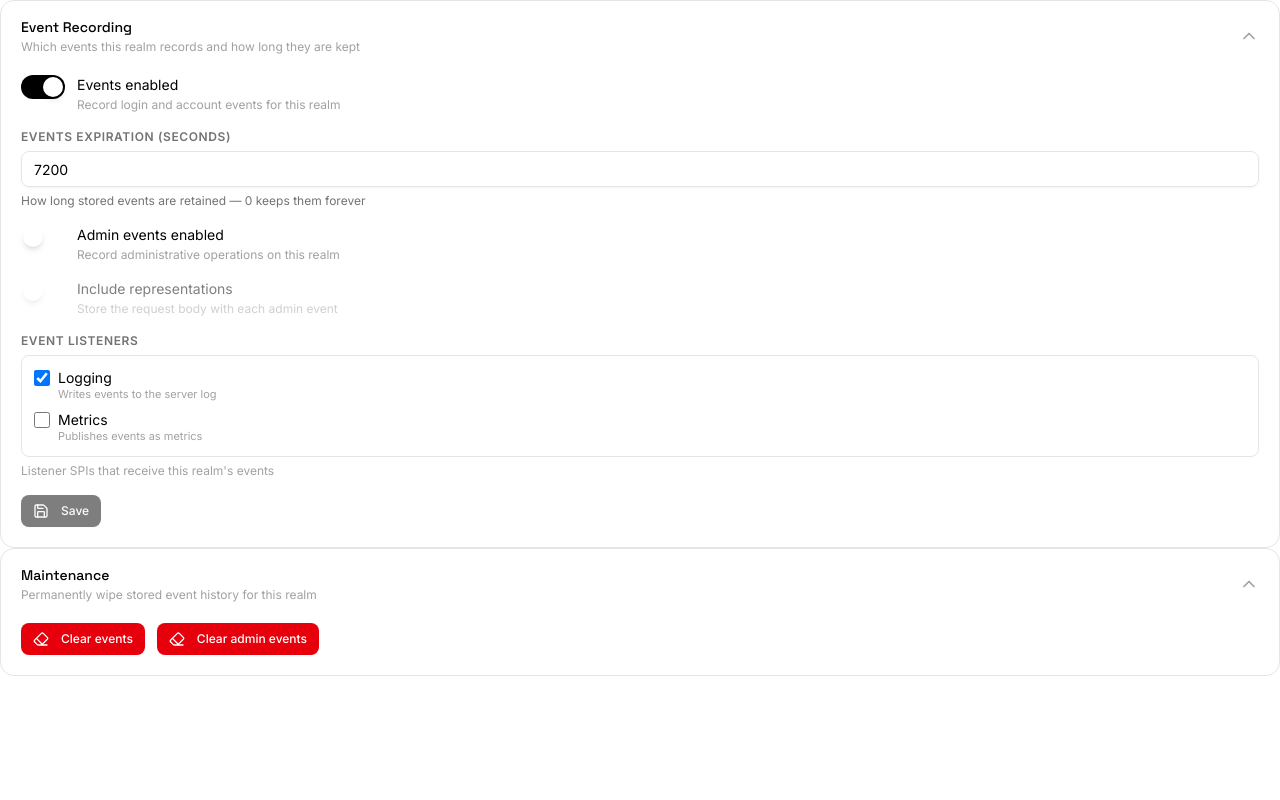
Test case: EventsConfigSection › clears events only after confirmation
The image size is (1280, 800).
Click the button "Clear events" at (83, 638), box x1=21 y1=622 x2=145 y2=654
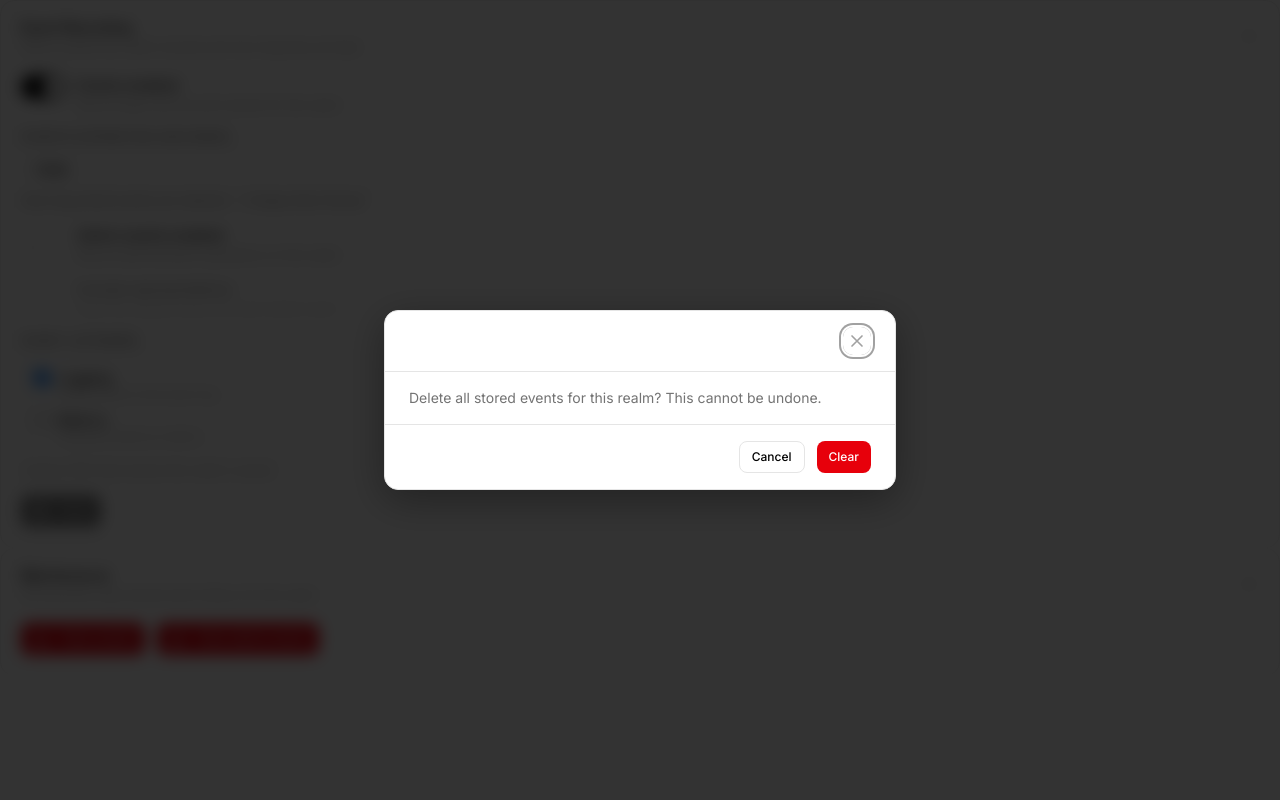
expect the text "Delete all stored events" is shown: met, box x1=409 y1=389 x2=822 y2=406
Click the button "Clear" at (844, 457), box x1=816 y1=441 x2=871 y2=473
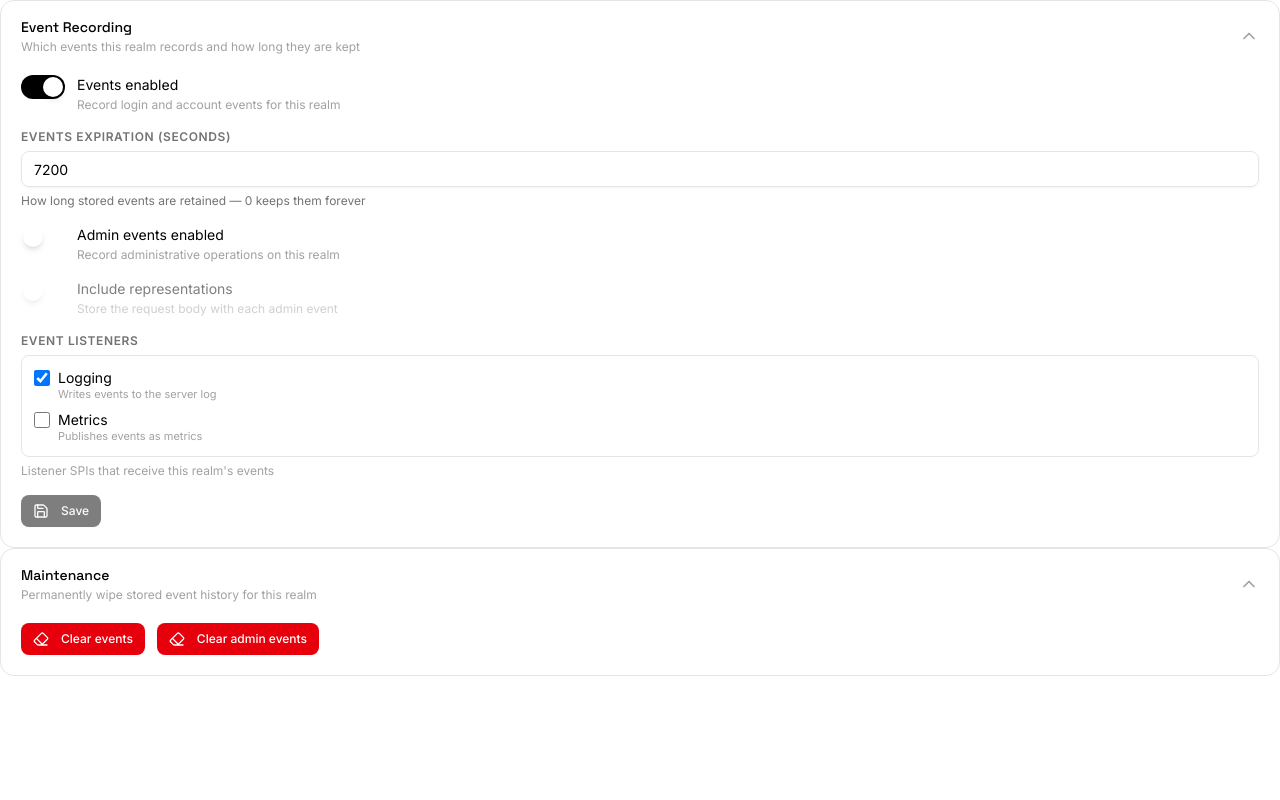
expect the dialog is gone: met
